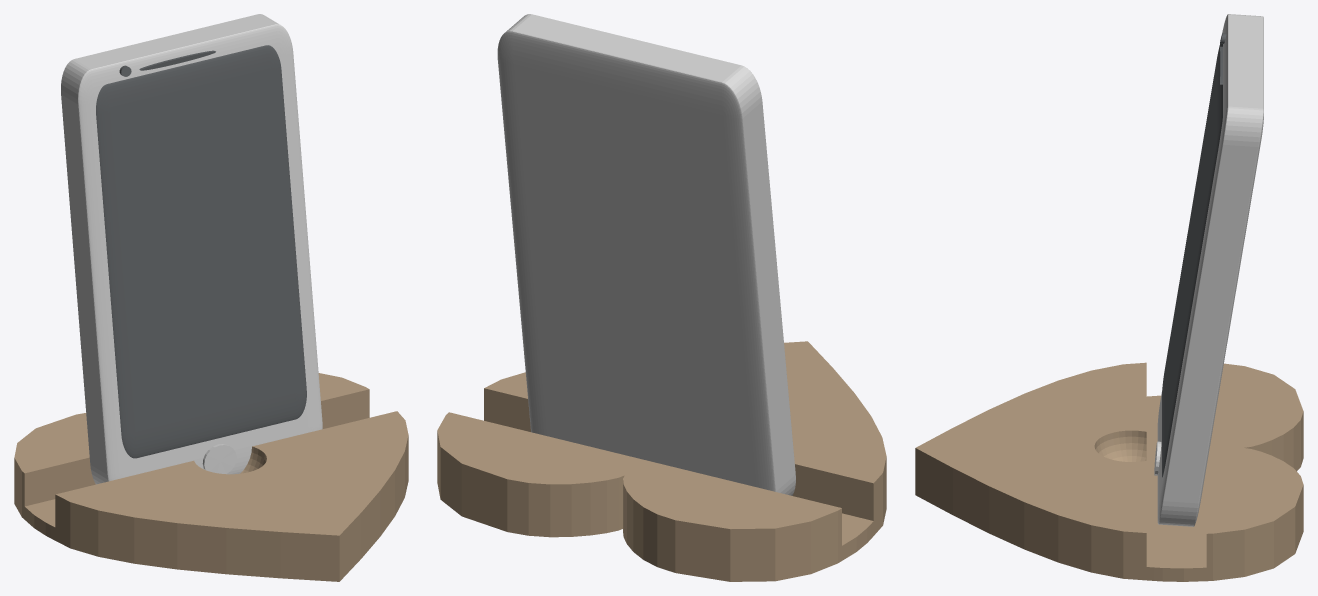
File: 3_pid_5.gltf
3 renders of one model, left to right at view 1: azimuth 30°, elevation 25°; view 2: azimuth 150°, elevation 25°; view 3: azimuth 270°, elevation 25°, orthographic. The views are drawn at different scales.
Visible parts, largest first — view 1: Mesh_Mesh_head_geo.001_lambert2SG.002; view 2: Mesh_Mesh_head_geo.001_lambert2SG.002; view 3: Mesh_Mesh_head_geo.001_lambert2SG.002.
Part boxes in pixels (bbox=[...]): Mesh_Mesh_head_geo.001_lambert2SG.002: bbox=[14, 14, 408, 581]; Mesh_Mesh_head_geo.001_lambert2SG.002: bbox=[437, 14, 886, 581]; Mesh_Mesh_head_geo.001_lambert2SG.002: bbox=[915, 14, 1303, 581].
Bounding box in the file's own units: 55 × 64 × 52.
